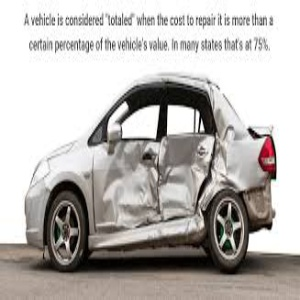door: (97, 144, 209, 223)
